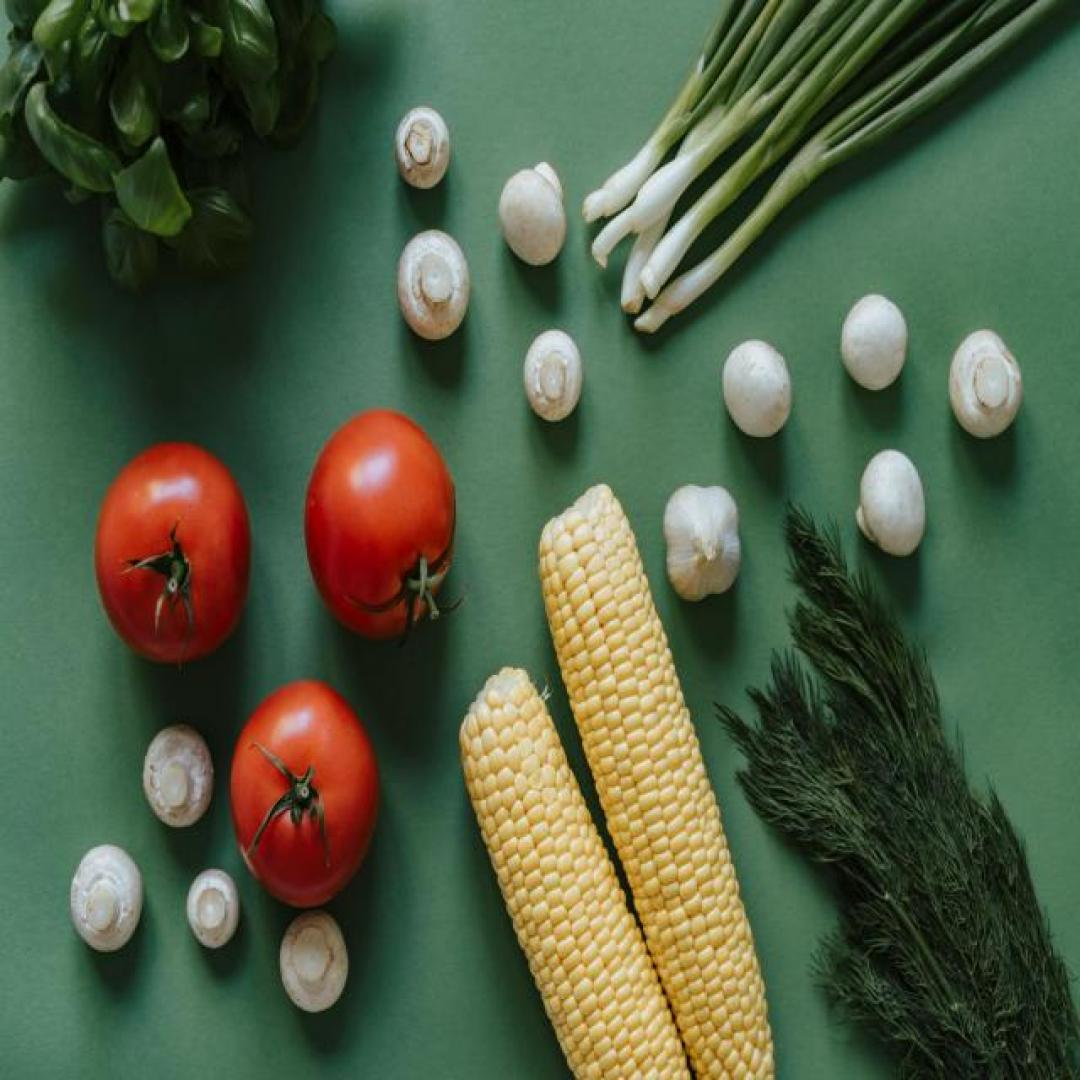matang: (91, 444, 253, 661), (231, 682, 380, 911), (305, 414, 454, 636)
